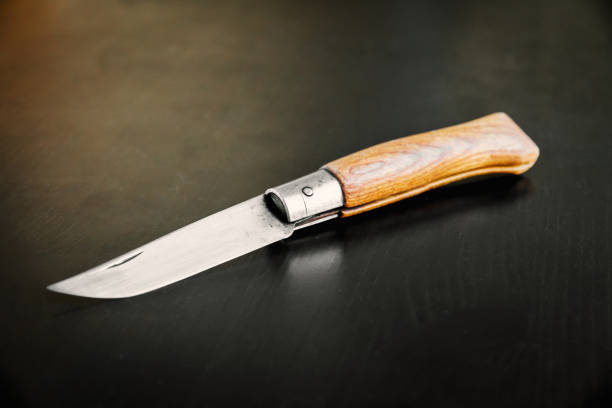knife: (42, 108, 541, 301)
